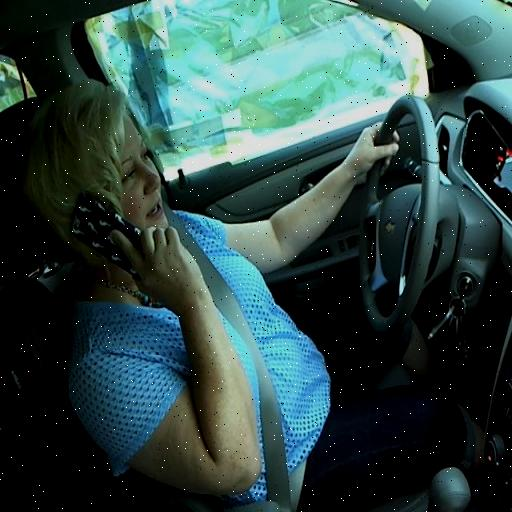talking_phone: (32, 94, 399, 477)
